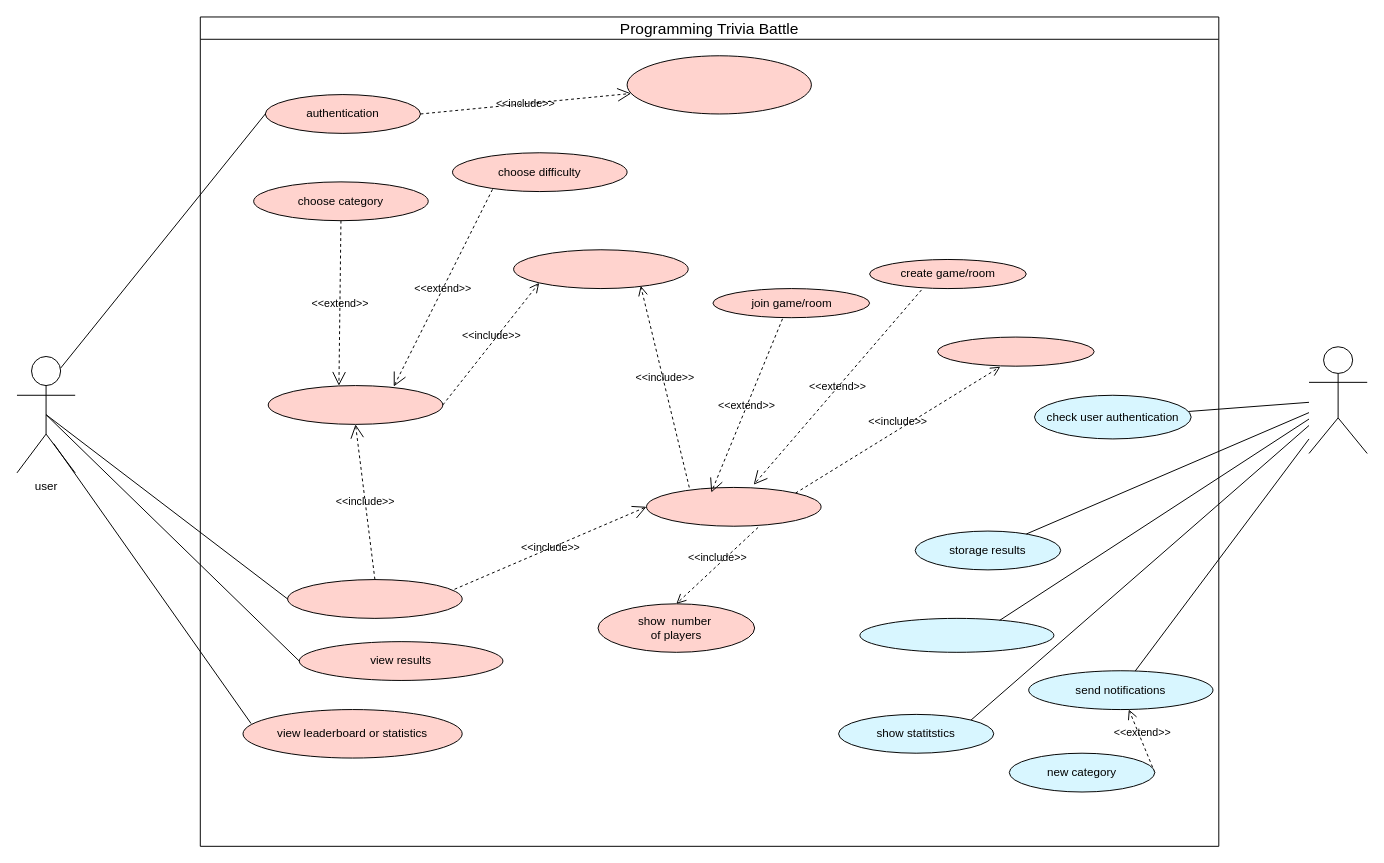
Some shapes in this 1384 by 863 pixel diagram are drawn without their labels. Each missing label, with the centre of its shape:
"answer questions" belongs at (600,269).
"choose type of game" belongs at (374,598).
"getting questions from API" belongs at (956,634).
"multyplayer match" belongs at (733,506).
"show results" belongs at (1015,351).
"solo game" belongs at (355,404).
"system" belongs at (1337,399).
"username, password or google login" belongs at (718,84).
